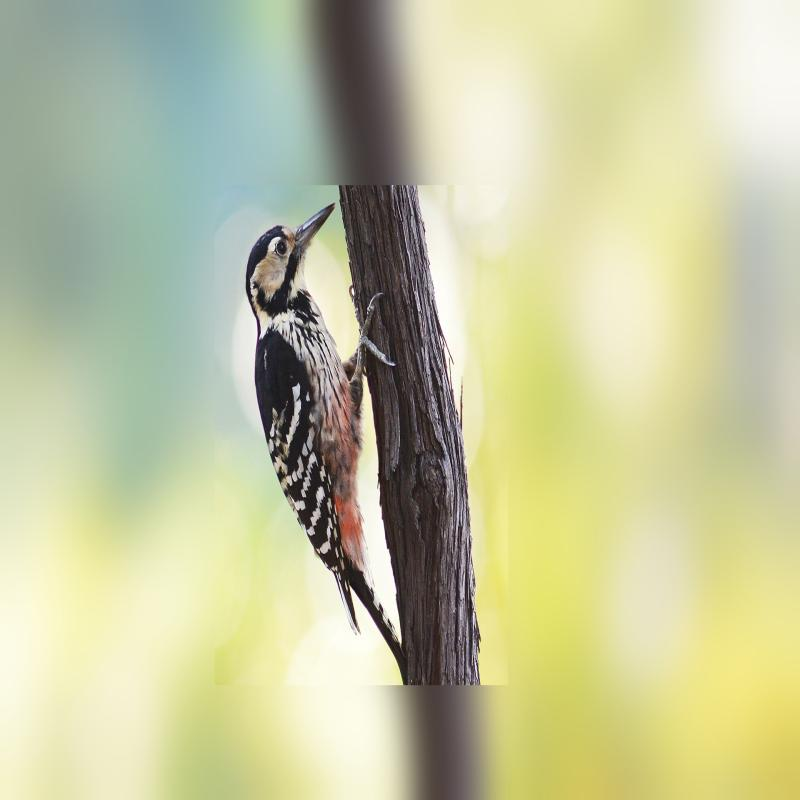white-backed woodpecker: (234, 193, 411, 654)
